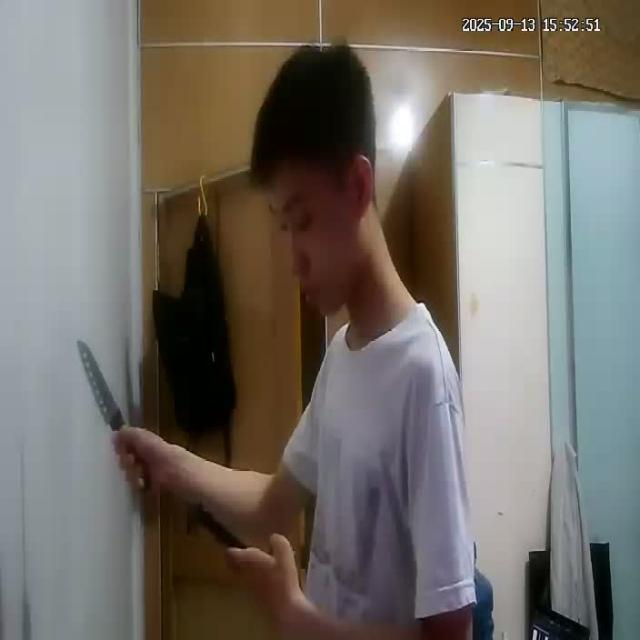senjata_tajam: (75, 335, 125, 433)
